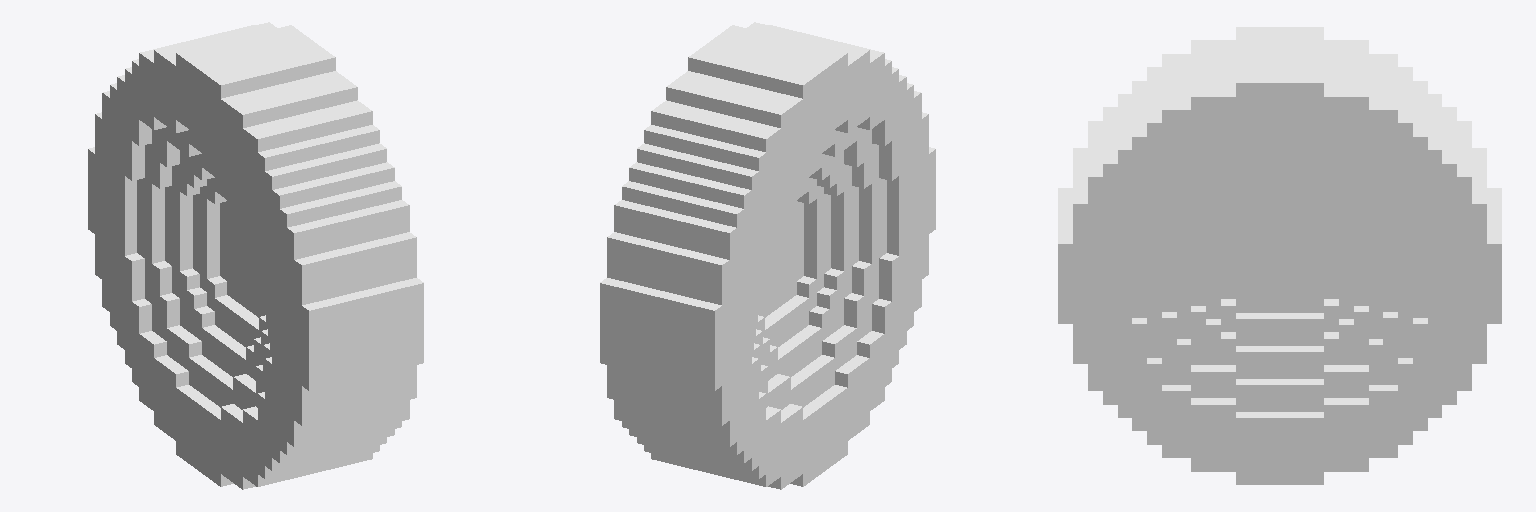
The model's file is Tire.obj.
3 views of the same model, side by side, from view 1: azimuth 30°, elevation 25°; view 2: azimuth 150°, elevation 25°; view 3: azimuth 270°, elevation 25° (orthographic).
Visible parts, largest first — view 1: object 1; view 2: object 1; view 3: object 1.
Part boxes in pixels (x1,y1,x2,y2): object 1: (88,22,423,489); object 1: (600,22,935,489); object 1: (1058,27,1501,484).
Size of the model in its own units: 0.9 by 3 by 3.